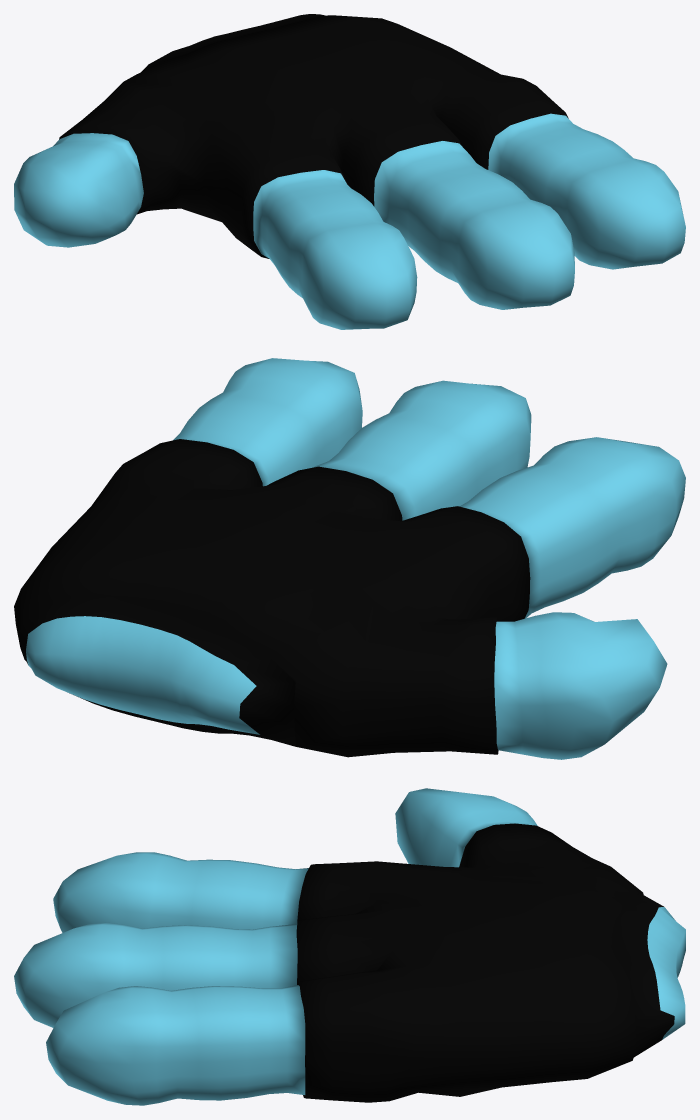
Rendered from MANO.fbx.
The picture shows the model from 3 angles, top to bottom: view 1: azimuth 30°, elevation 25°; view 2: azimuth 150°, elevation 25°; view 3: azimuth 270°, elevation 25°; orthographic projection. The views are drawn at different scales.
Visible parts, largest first — view 1: Cube; view 2: Cube; view 3: Cube.
Boxes of the visible parts, box(x1,y1,x2,y2) form: Cube: box(14, 14, 685, 329); Cube: box(14, 358, 685, 759); Cube: box(14, 788, 685, 1105).
Size of the model in its own units: 675 by 168 by 743.
